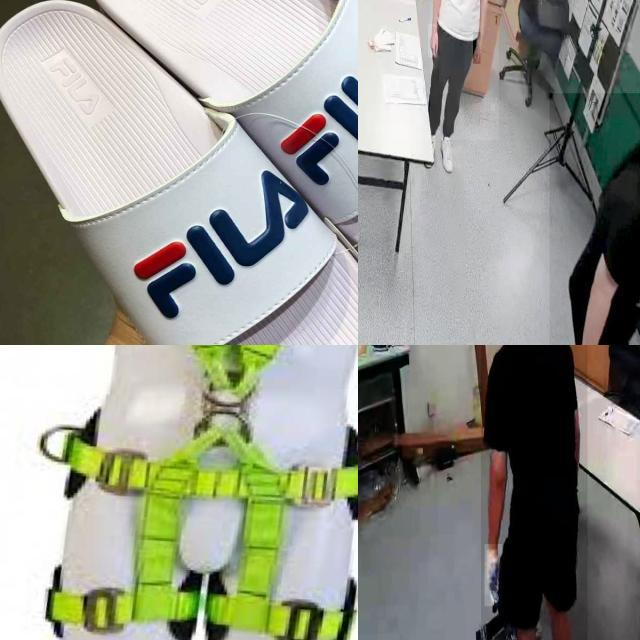Harness: (41, 345, 358, 640)
Sandals: (0, 0, 358, 345)
hand_glove: (484, 544, 502, 607)
hand_noglove: (428, 24, 438, 58), (473, 32, 481, 65)
person: (481, 345, 588, 640), (549, 93, 640, 345), (430, 0, 499, 141)
shoes: (438, 135, 456, 174)
